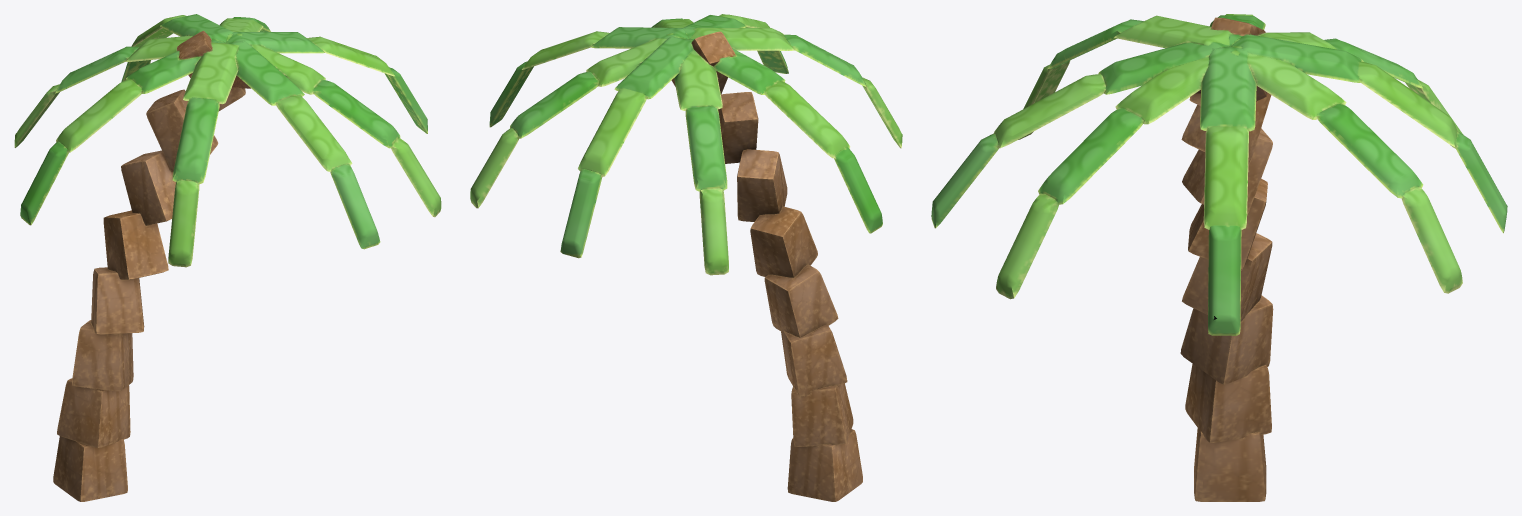
File: Desert_Palmier.fbx
3 renders of one model, left to right at view 1: azimuth 30°, elevation 25°; view 2: azimuth 150°, elevation 25°; view 3: azimuth 270°, elevation 25°, orthographic. The views are drawn at different scales.
Visible parts, largest first — view 1: Desert_Palmier; view 2: Desert_Palmier; view 3: Desert_Palmier.
Part boxes in pixels (x1,y1,x2,y2): Desert_Palmier: [14, 14, 441, 501]; Desert_Palmier: [470, 14, 902, 501]; Desert_Palmier: [931, 14, 1507, 501].
Bounding box in the file's own units: 1482 × 1539 × 1490.
1 material, 1 textured.
